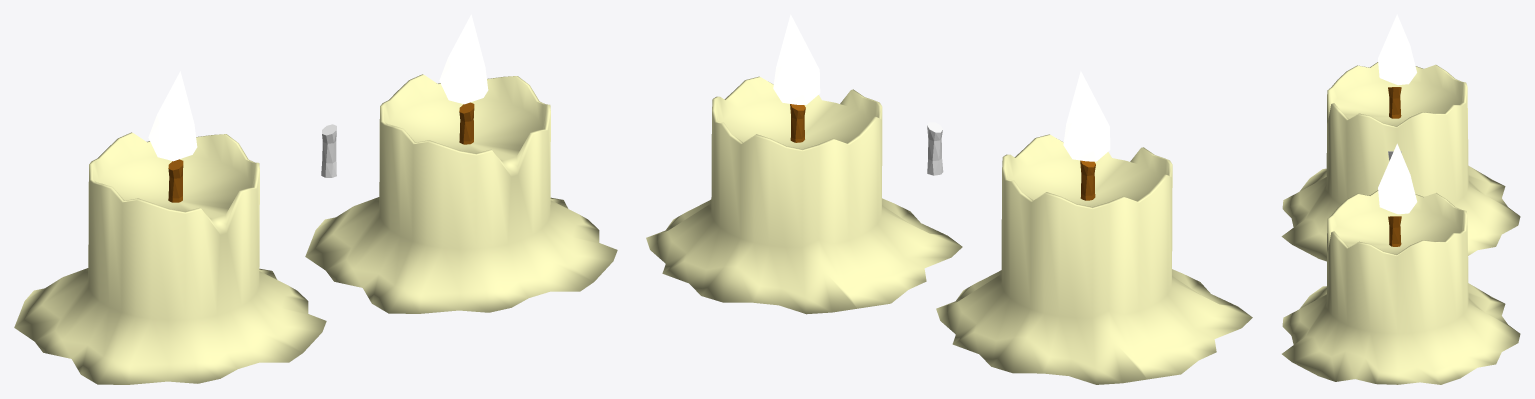
File: velas_5.gltf
3 views of the same model, side by side, from view 1: azimuth 30°, elevation 25°; view 2: azimuth 150°, elevation 25°; view 3: azimuth 270°, elevation 25° (orthographic). The views are drawn at different scales.
Visible parts, largest first — view 1: Cylinder.004, Cylinder.000, Cylinder.002, Cylinder.003, Cylinder.001; view 2: Cylinder.004, Cylinder.000, Cylinder.002, Cylinder.003, Cylinder.001; view 3: Cylinder.004, Cylinder.000, Cylinder.002, Cylinder.001.
Boxes of the visible parts, x1=… form: Cylinder.004: x1=305, y1=14, x2=617, y2=313; Cylinder.000: x1=14, y1=132, x2=326, y2=384; Cylinder.002: x1=148, y1=71, x2=197, y2=161; Cylinder.003: x1=321, y1=124, x2=336, y2=177; Cylinder.001: x1=168, y1=159, x2=183, y2=202; Cylinder.004: x1=646, y1=14, x2=962, y2=314; Cylinder.000: x1=936, y1=134, x2=1252, y2=384; Cylinder.002: x1=1063, y1=71, x2=1110, y2=161; Cylinder.003: x1=927, y1=122, x2=943, y2=175; Cylinder.001: x1=1080, y1=160, x2=1095, y2=200; Cylinder.004: x1=1282, y1=143, x2=1520, y2=384; Cylinder.000: x1=1281, y1=62, x2=1520, y2=261; Cylinder.002: x1=1378, y1=14, x2=1416, y2=85; Cylinder.001: x1=1388, y1=87, x2=1401, y2=118.
Size of the model in its own units: 3.27 by 1.43 by 1.49.
